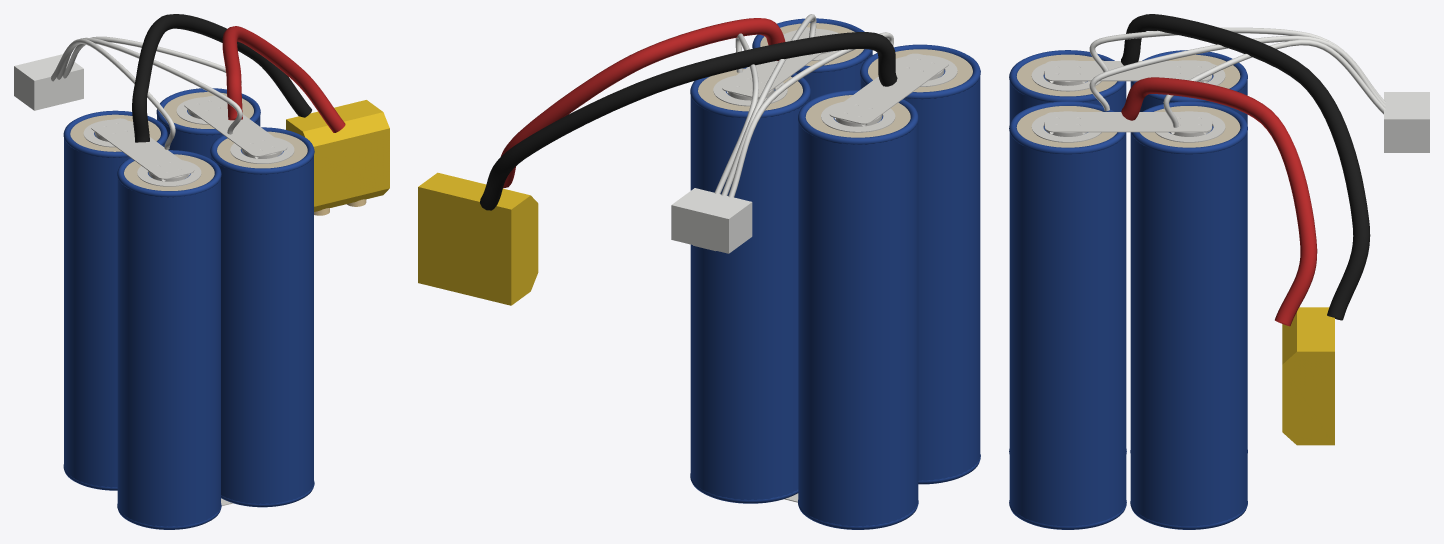
File: pack.glb
3 views of the same model, side by side, from view 1: azimuth 30°, elevation 25°; view 2: azimuth 150°, elevation 25°; view 3: azimuth 270°, elevation 25° (orthographic). The views are drawn at different scales.
Visible parts, largest first — view 1: cell_1, cell_3, leads, cell_2, strips, cell_4; view 2: cell_2, cell_4, leads, cell_1, strips, cell_3; view 3: cell_3, cell_4, leads, strips, cell_1, cell_2.
Boxes of the visible parts, <box> form: cell_1: <box>117,150,221,529</box>; cell_3: <box>210,127,314,507</box>; leads: <box>14,14,389,215</box>; cell_2: <box>63,110,167,490</box>; strips: <box>91,95,287,505</box>; cell_4: <box>156,88,260,158</box>; cell_2: <box>798,90,918,529</box>; cell_4: <box>690,67,810,503</box>; leads: <box>418,14,897,305</box>; cell_1: <box>860,44,980,484</box>; strips: <box>722,27,948,502</box>; cell_3: <box>752,18,872,100</box>; cell_3: <box>1009,101,1126,529</box>; cell_4: <box>1130,101,1247,529</box>; leads: <box>1089,14,1429,445</box>; strips: <box>1045,61,1211,132</box>; cell_1: <box>1009,50,1126,453</box>; cell_2: <box>1130,50,1247,452</box>.
Size of the model in its own units: 71.75 by 75.98 by 64.24.
